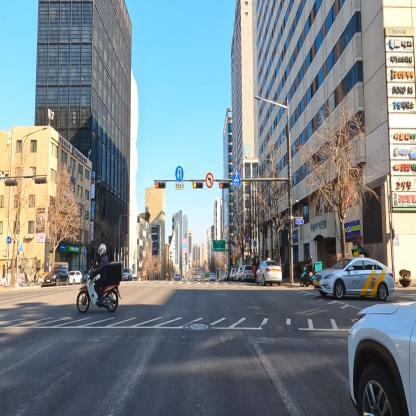Yellow: (192, 181, 204, 190)
red: (154, 180, 168, 190), (219, 180, 231, 190)
